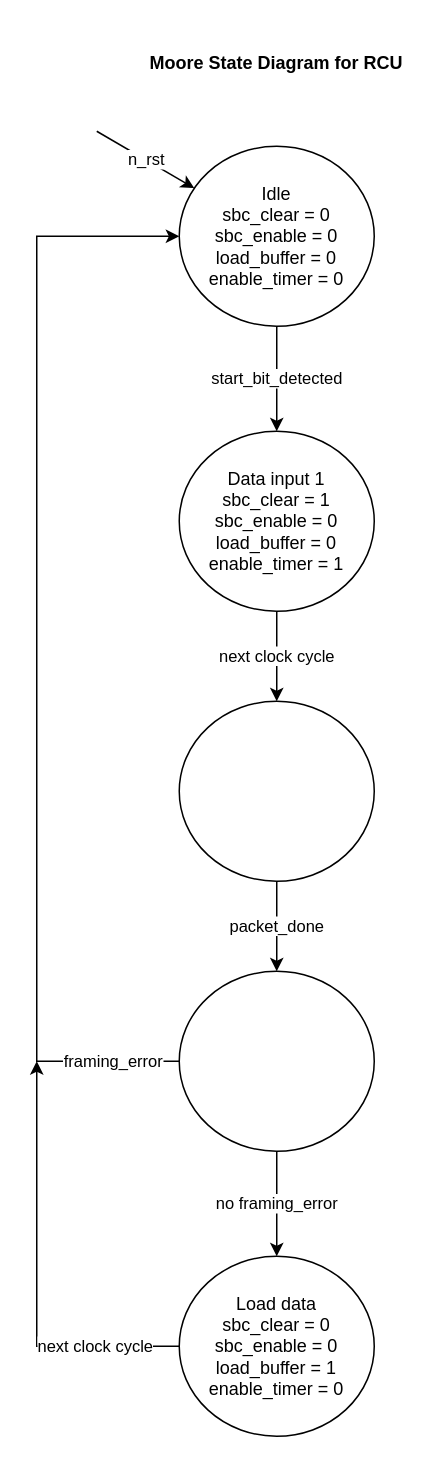
Some shapes in this 446 by 1463 pixel diagram are drawn without their labels. The shapes that lost their labels are listed below. From the top down, each one's centre as x and y in pixels, then its label:
point 276,790: Data input 2 sbc_clear = 0 sbc_enable = 0 load_buffer = 0 enable_timer = 1
point 276,1060: Stop bit check sbc_clear = 0 sbc_enable = 1 load_buffer = 0 enable_timer = 0
